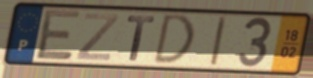3: (237, 15, 274, 72)
D: (151, 12, 197, 66)
E: (34, 7, 83, 62)
I: (208, 15, 229, 69)
T: (125, 14, 157, 63)
Z: (74, 12, 121, 63)
